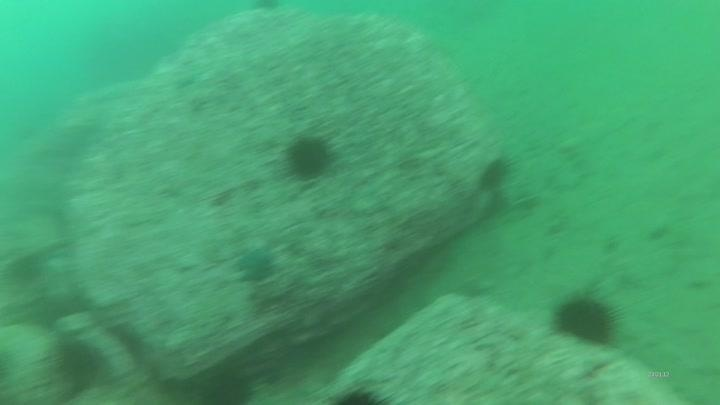echinus: (549, 288, 624, 349), (51, 335, 105, 387), (282, 132, 336, 182), (476, 154, 514, 192)
starfish: (231, 241, 280, 286)
